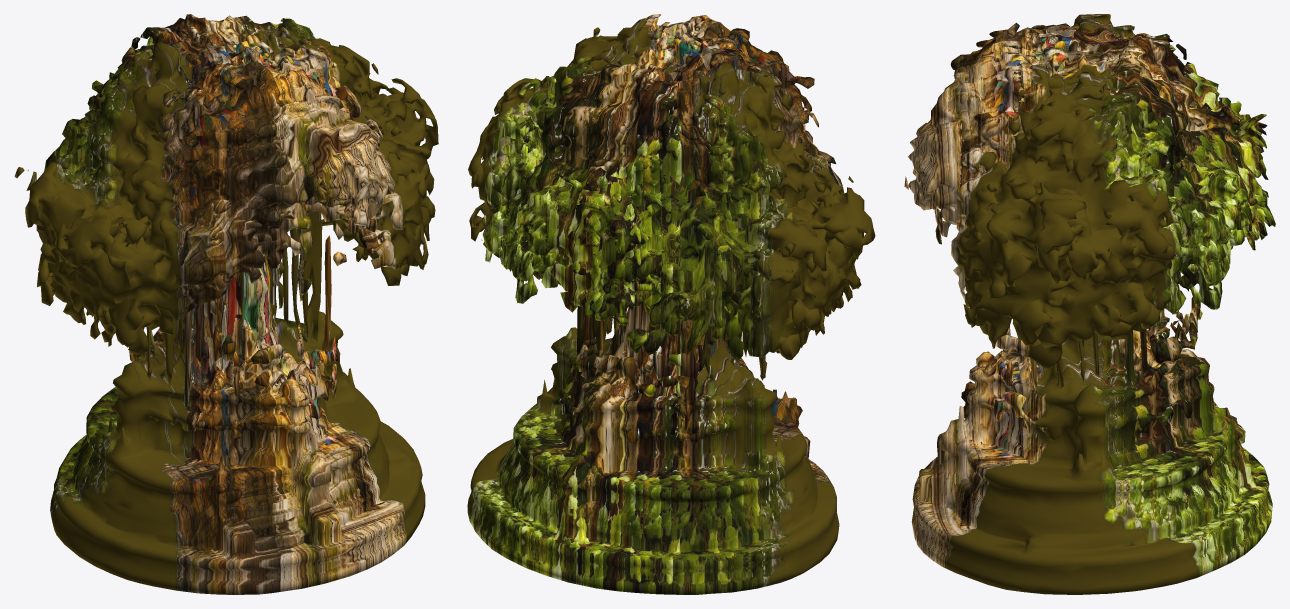
The model's file is bodhi_tree.glb.
3 renders of one model, left to right at view 1: azimuth 30°, elevation 25°; view 2: azimuth 150°, elevation 25°; view 3: azimuth 270°, elevation 25°, orthographic.
Parts seen in each view (by area): view 1: geometry_0; view 2: geometry_0; view 3: geometry_0.
Boxes of the visible parts, x1,y1,x2,y2 form: geometry_0: [14, 14, 438, 594]; geometry_0: [467, 14, 875, 594]; geometry_0: [904, 14, 1275, 594].
Size of the model in its own units: 1.58 by 1.98 by 1.38.
1 material, 1 textured.
